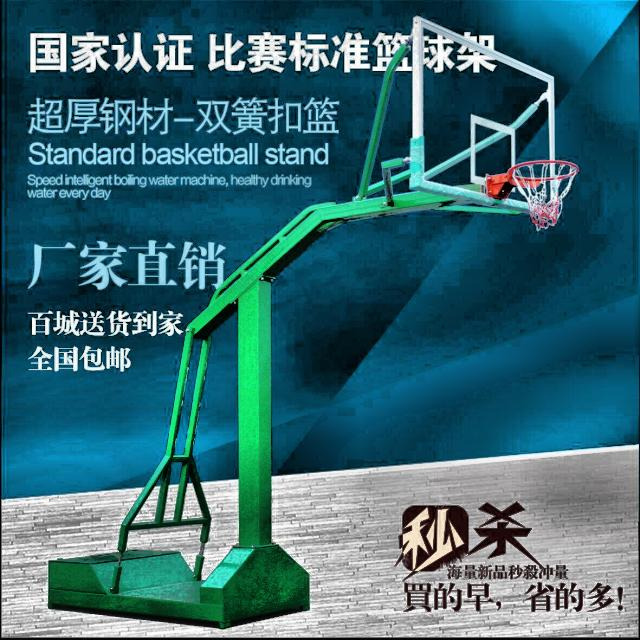rim: (509, 160, 579, 230)
